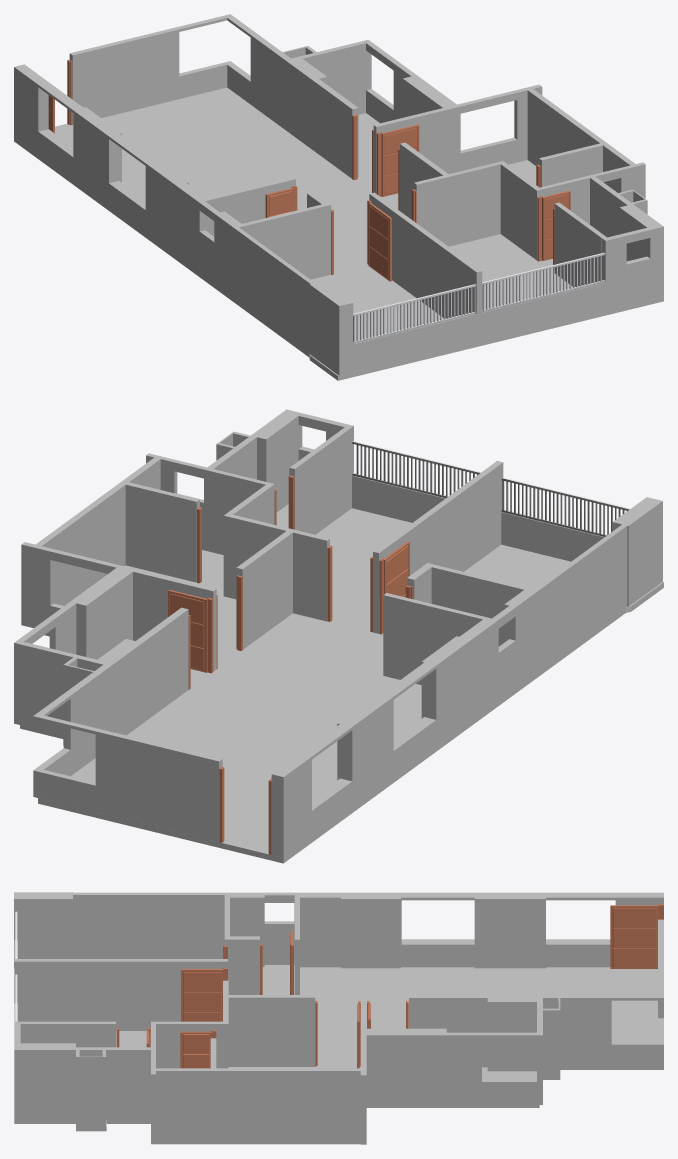
File: Wall_Floor_rod.fbx
3 views of the same model, one above another, from view 1: azimuth 30°, elevation 25°; view 2: azimuth 150°, elevation 25°; view 3: azimuth 270°, elevation 25° (orthographic). The views are drawn at different scales.
Visible parts, largest first — view 1: Plane.019, Floor.001, Cube.001, Cube.141, Cube.146, Cube.144, Cube.142; view 2: Plane.019, Floor.001, Cube.001, Cube.140, Cube.146, Plane.058, Plane.056, Plane.051, Plane.052; view 3: Plane.019, Floor.001, Cube.147, Cube.145, Cube.143.
Part boxes in pixels (left/top/right/bottom): Plane.019: left=14, top=14, right=663, bottom=375; Floor.001: left=14, top=87, right=663, bottom=380; Cube.001: left=353, top=252, right=605, bottom=343; Cube.141: left=381, top=124, right=419, bottom=196; Cube.146: left=368, top=202, right=391, bottom=281; Cube.144: left=542, top=190, right=570, bottom=260; Cube.142: left=265, top=188, right=293, bottom=217; Plane.019: left=14, top=409, right=662, bottom=857; Floor.001: left=20, top=504, right=663, bottom=863; Cube.001: left=352, top=441, right=630, bottom=536; Cube.140: left=168, top=589, right=207, bottom=672; Cube.146: left=384, top=541, right=409, bottom=597; Plane.058: left=219, top=766, right=271, bottom=854; Plane.056: left=327, top=545, right=372, bottom=632; Plane.051: left=188, top=597, right=212, bottom=689; Plane.052: left=216, top=575, right=242, bottom=668; Plane.019: left=14, top=892, right=663, bottom=1144; Floor.001: left=14, top=965, right=663, bottom=1144; Cube.147: left=610, top=905, right=659, bottom=968; Cube.145: left=181, top=969, right=223, bottom=1021; Cube.143: left=180, top=1031, right=211, bottom=1068.
Bounding box in the file's own units: 1988 × 375 × 2973.
